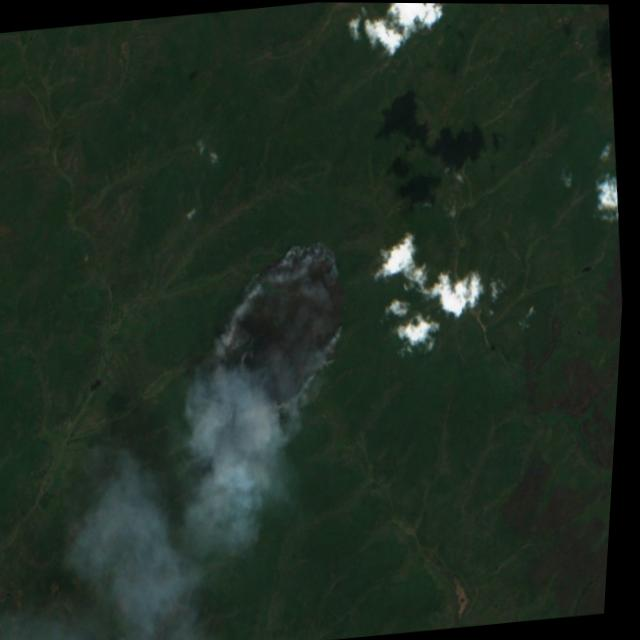fire: (214, 226, 367, 420)
